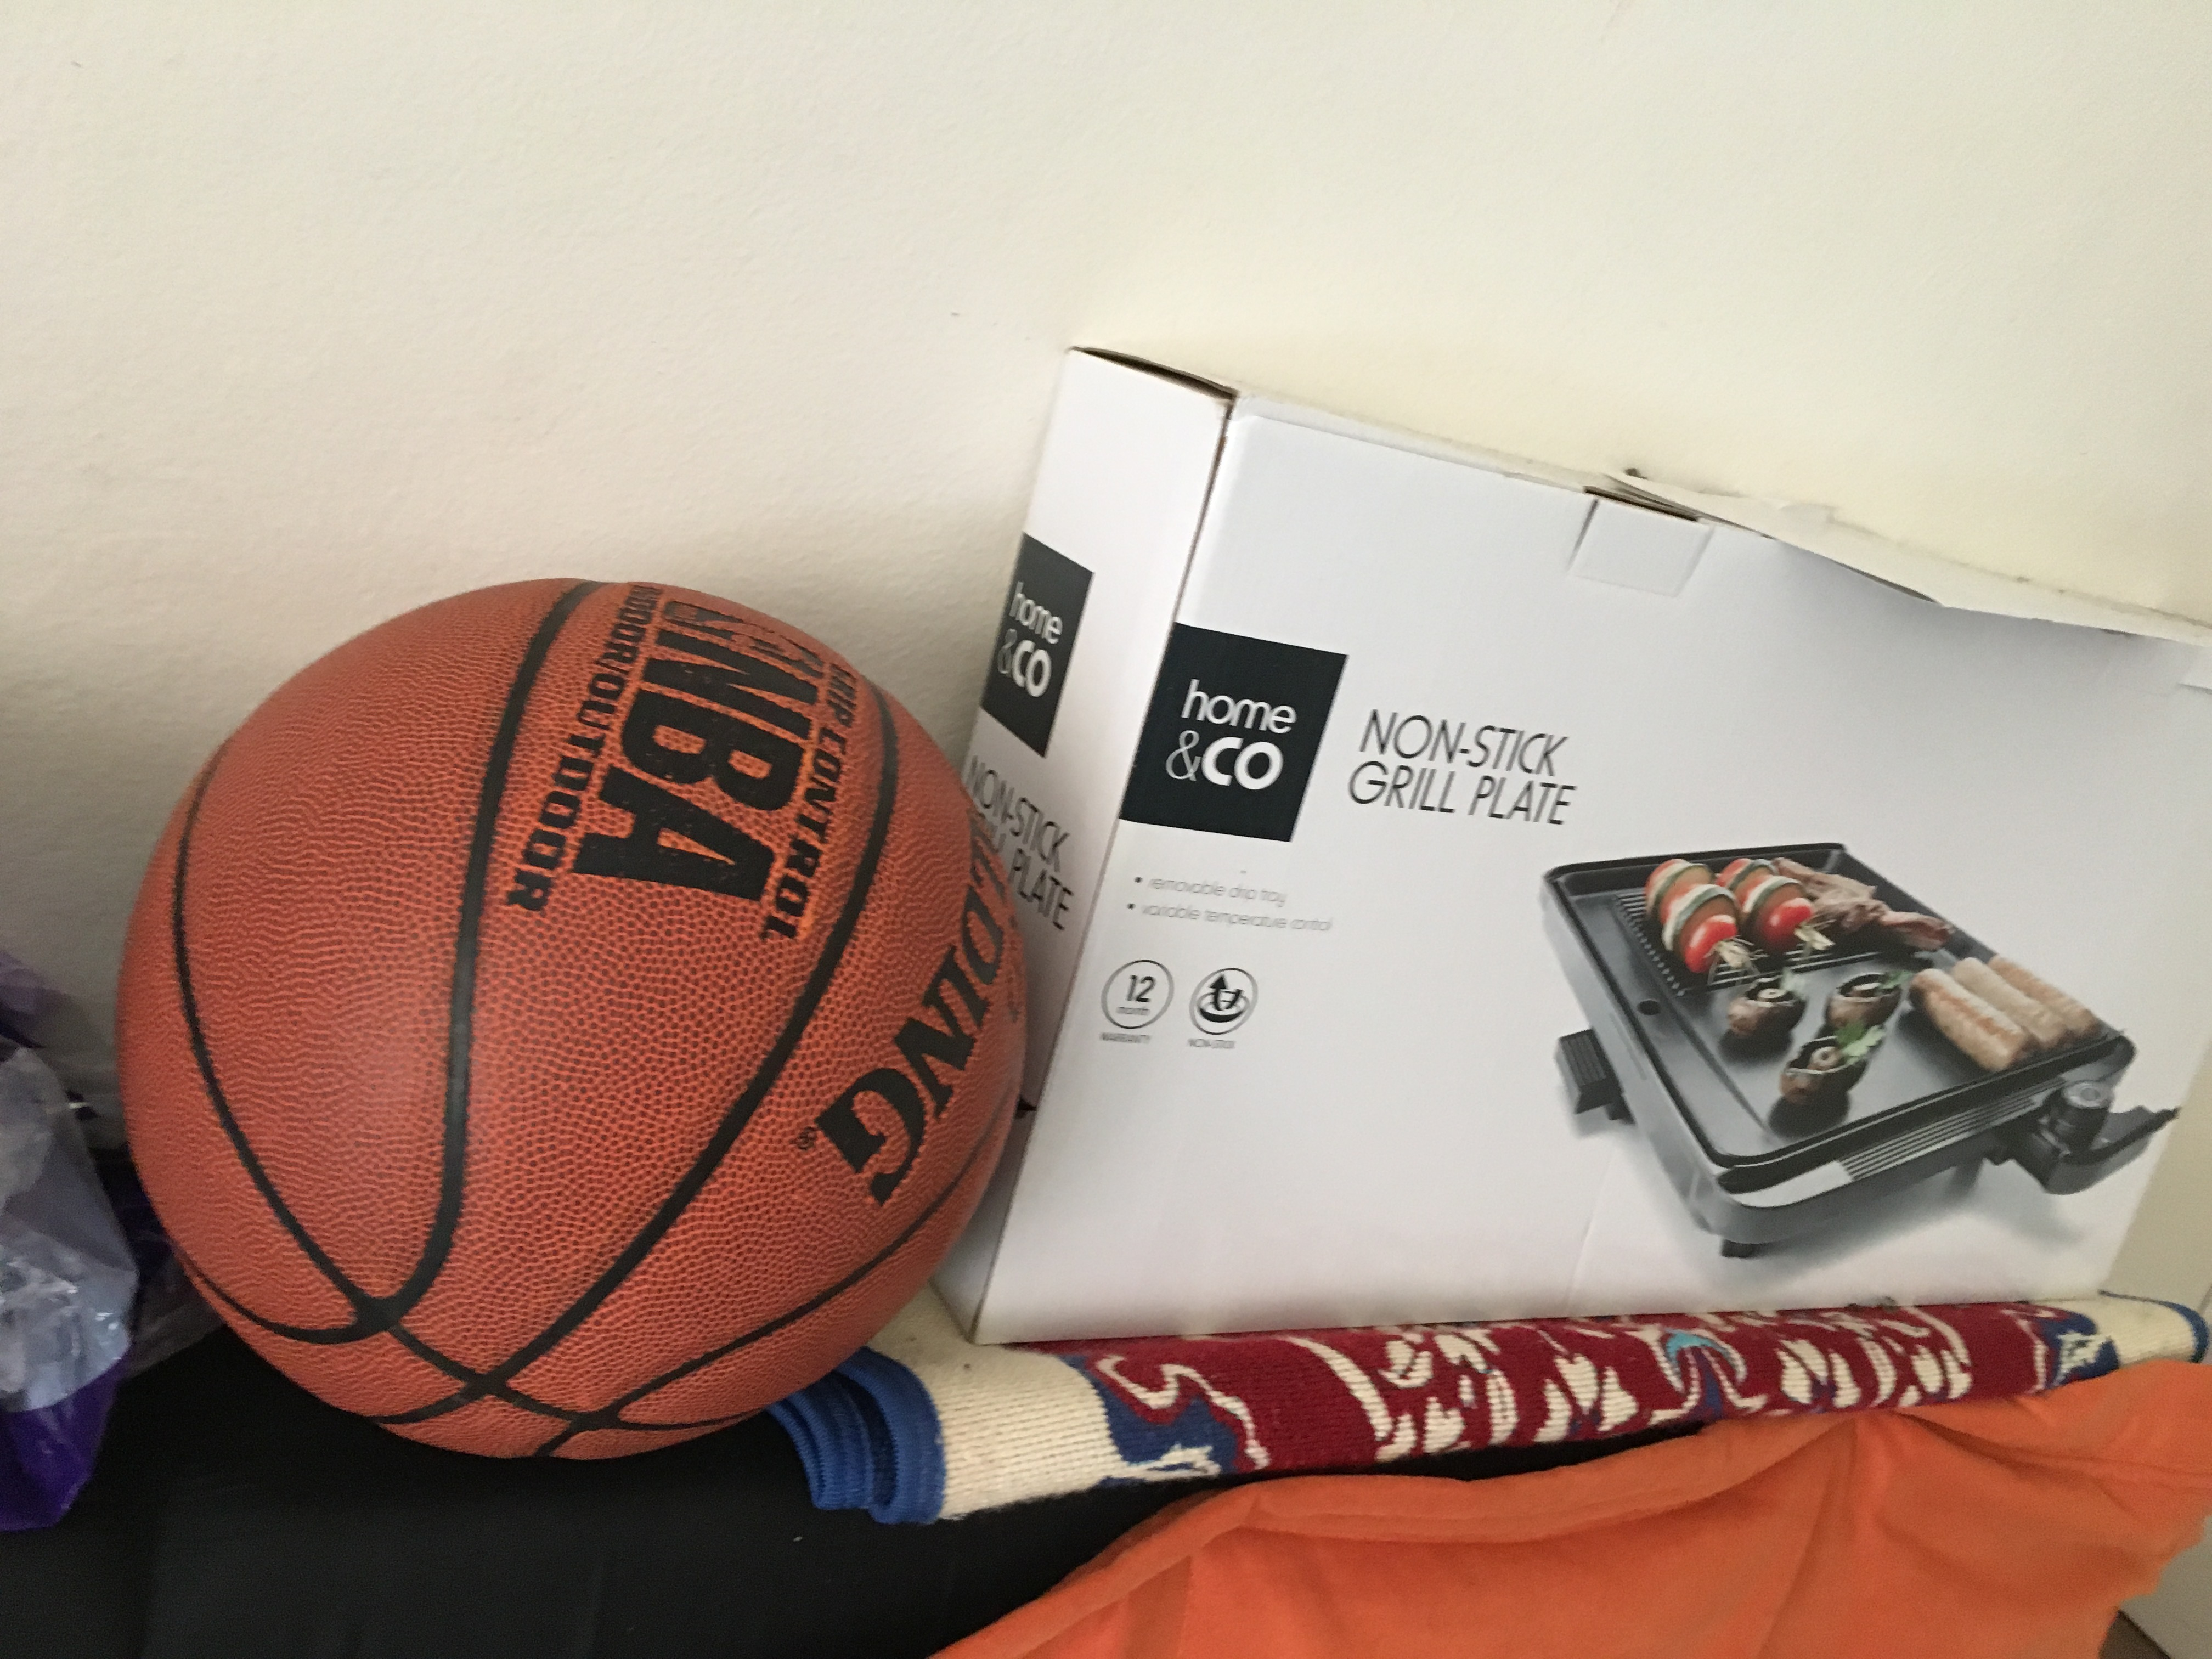Basketball: (98, 566, 1029, 1478)
